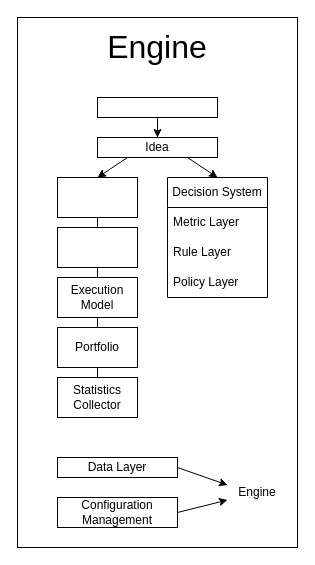
Image size: 315x565. Some labels were removed from this diagram. The centre of each missing label's shape, as x and y in pixels:
"Order Manager" belongs at (x=97, y=247).
"Strategy Grid Strategy" belongs at (x=97, y=197).
"Test Runner" belongs at (x=157, y=107).
